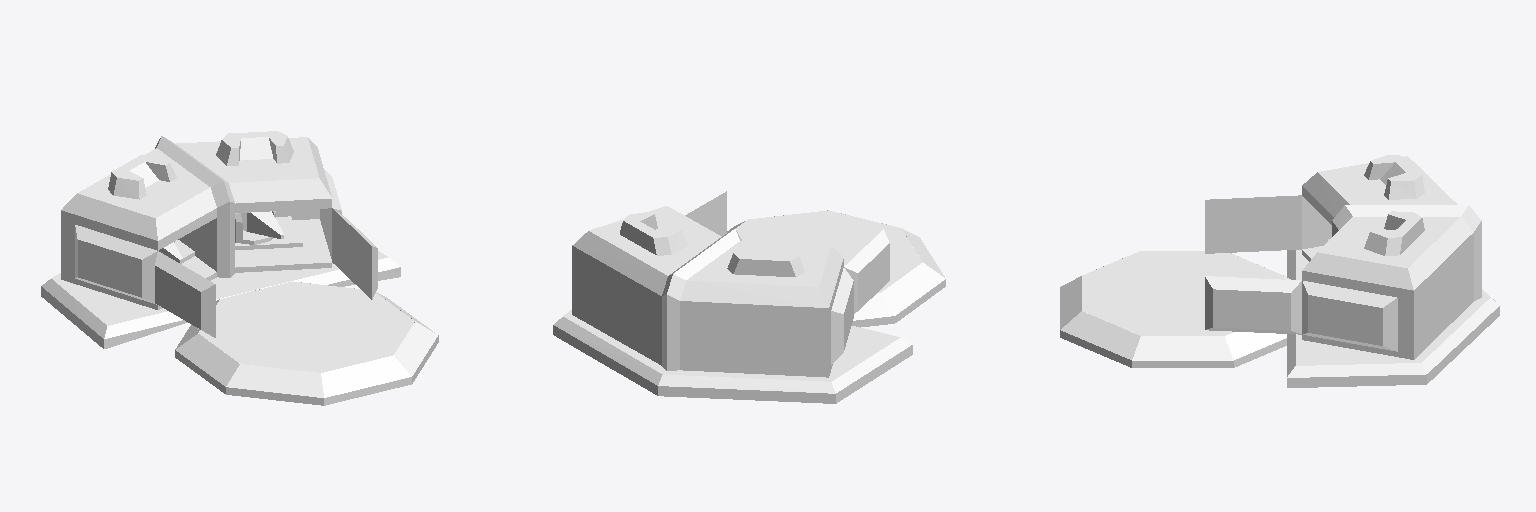
3 views of the same model, side by side, from view 1: azimuth 30°, elevation 25°; view 2: azimuth 150°, elevation 25°; view 3: azimuth 270°, elevation 25° (orthographic).
Parts seen in each view (by area): view 1: bay, padbase, pad3, Base_base.008, door1, door2.002_door2, door2.001, nano2_nano2.001, plate2_plate.001, door2_door1.001; view 2: bay, Base_base.008, padbase, pad3, door2.002_door2, door1, door2.001; view 3: bay, padbase, pad3, Base_base.008, door2.001, door2.002_door2, door2_door1.001, door1.
Boxes of the visible parts, <box> form: bay: <box>61,131,331,309</box>; padbase: <box>175,281,438,405</box>; pad3: <box>216,286,403,368</box>; Base_base.008: <box>41,251,400,348</box>; door1: <box>75,225,157,304</box>; door2.002_door2: <box>155,251,215,337</box>; door2.001: <box>332,208,377,299</box>; nano2_nano2.001: <box>235,211,283,244</box>; plate2_plate.001: <box>235,216,302,249</box>; door2_door1.001: <box>320,169,341,258</box>; bay: <box>572,206,843,377</box>; Base_base.008: <box>553,309,912,403</box>; padbase: <box>727,210,945,327</box>; pad3: <box>739,215,911,276</box>; door2.002_door2: <box>844,229,889,313</box>; door1: <box>831,268,853,364</box>; door2.001: <box>685,191,726,235</box>; bay: <box>1302,155,1481,359</box>; padbase: <box>1060,251,1290,367</box>; pad3: <box>1092,255,1273,331</box>; Base_base.008: <box>1287,250,1499,387</box>; door2.001: <box>1205,276,1301,334</box>; door2.002_door2: <box>1205,195,1301,253</box>; door2_door1.001: <box>1302,281,1397,351</box>; door1: <box>1302,196,1331,248</box>.
Bounding box in the file's own units: 76.19 × 29.25 × 97.57.